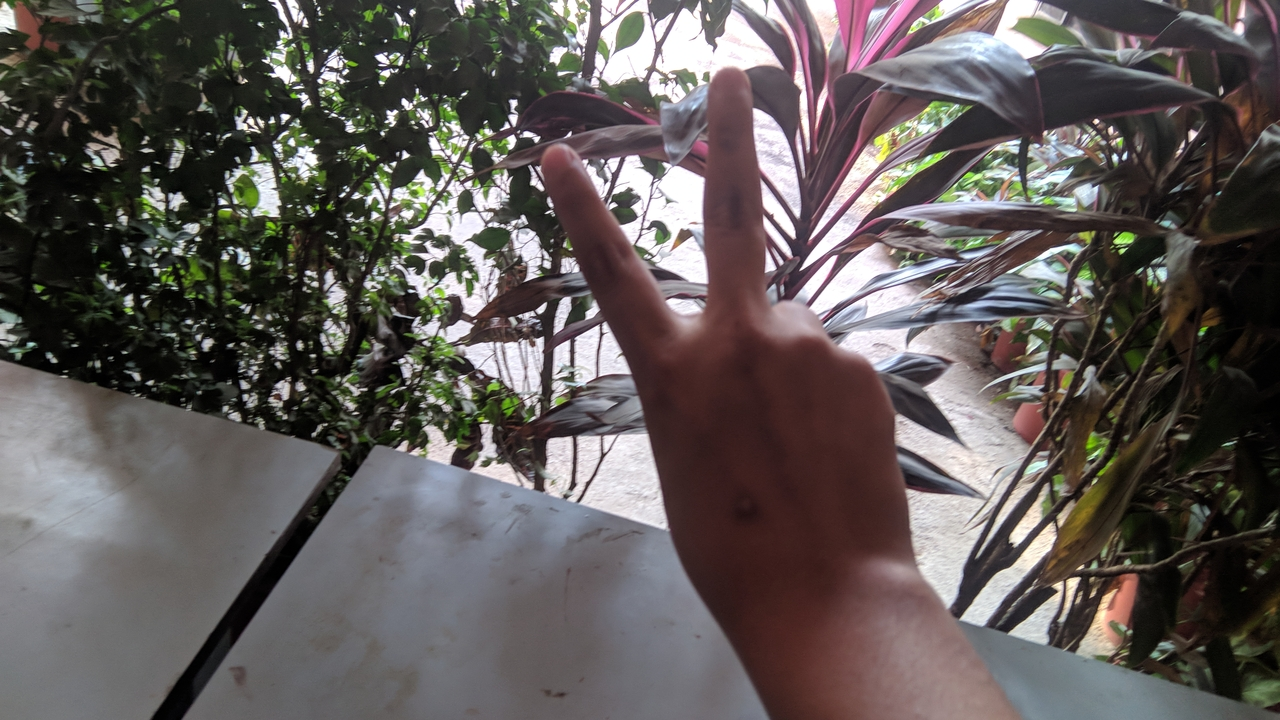fingertip: (702, 70, 760, 122), (532, 132, 582, 192)
